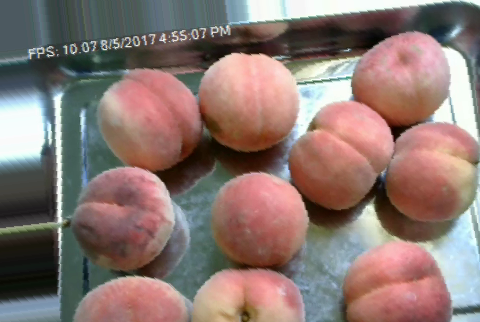Peach: (288, 99, 391, 210), (98, 68, 203, 170), (73, 167, 174, 270), (381, 121, 478, 222), (349, 31, 452, 126), (201, 51, 298, 151), (342, 239, 450, 322), (212, 172, 307, 266), (192, 266, 303, 321), (74, 274, 189, 322)
